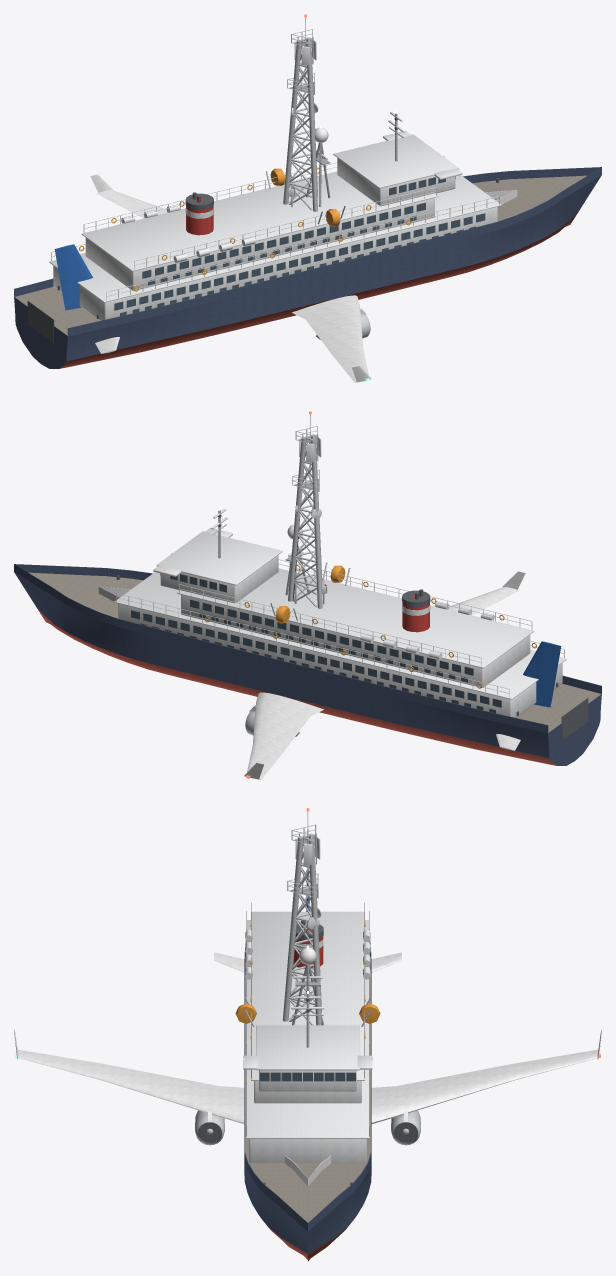
Rendered from jamsim_assets.glb.
3 renders of one model, top to bottom at view 1: azimuth 30°, elevation 25°; view 2: azimuth 150°, elevation 25°; view 3: azimuth 270°, elevation 25°, orthographic. The views are drawn at different scales.
Parts seen in each view (by area): view 1: Ship_Ferry_White_Paint, Ship_Ferry_Hull_Navy, Ship_Ferry_Glass, Aircraft_AC_White, Ship_Ferry_Deck, Jam_Tower_Galvanized, Ship_Ferry_Hull_Red, Ship_Ferry_Steel, Aircraft_CG_Blue, Ship_Ferry_Dark_Metal, Ship_Ferry_Orange, Ship_Ferry_Red_Paint; view 2: Ship_Ferry_White_Paint, Ship_Ferry_Hull_Navy, Ship_Ferry_Glass, Aircraft_AC_White, Ship_Ferry_Deck, Jam_Tower_Galvanized, Ship_Ferry_Hull_Red, Ship_Ferry_Steel, Aircraft_CG_Blue, Ship_Ferry_Dark_Metal, Ship_Ferry_Orange, Ship_Ferry_Red_Paint; view 3: Ship_Ferry_White_Paint, Aircraft_AC_White, Ship_Ferry_Hull_Navy, Ship_Ferry_Deck, Jam_Tower_Galvanized, Ship_Ferry_Steel, Ship_Ferry_Glass, Aircraft_Dark_Metal, Aircraft_AC_Gray, Ship_Ferry_Orange.
Boxes of the visible parts, x1,y1,x2,y2 form: Ship_Ferry_White_Paint: [49, 112, 501, 320]; Ship_Ferry_Hull_Navy: [14, 167, 601, 368]; Ship_Ferry_Glass: [114, 176, 485, 316]; Aircraft_AC_White: [90, 174, 371, 382]; Ship_Ferry_Deck: [15, 175, 586, 335]; Jam_Tower_Galvanized: [283, 29, 317, 211]; Ship_Ferry_Hull_Red: [49, 212, 578, 368]; Ship_Ferry_Steel: [51, 113, 499, 300]; Aircraft_CG_Blue: [54, 244, 92, 310]; Ship_Ferry_Dark_Metal: [27, 118, 499, 343]; Ship_Ferry_Orange: [79, 168, 411, 291]; Ship_Ferry_Red_Paint: [186, 198, 213, 235]; Ship_Ferry_White_Paint: [114, 509, 566, 717]; Ship_Ferry_Hull_Navy: [14, 564, 601, 765]; Ship_Ferry_Glass: [131, 573, 501, 713]; Aircraft_AC_White: [244, 571, 525, 779]; Ship_Ferry_Deck: [29, 572, 600, 732]; Jam_Tower_Galvanized: [288, 426, 322, 608]; Ship_Ferry_Hull_Red: [38, 609, 555, 765]; Ship_Ferry_Steel: [116, 510, 564, 697]; Aircraft_CG_Blue: [523, 641, 561, 707]; Ship_Ferry_Dark_Metal: [116, 515, 588, 740]; Ship_Ferry_Orange: [204, 565, 536, 688]; Ship_Ferry_Red_Paint: [402, 595, 429, 632]; Ship_Ferry_White_Paint: [243, 911, 372, 1162]; Aircraft_AC_White: [14, 952, 601, 1123]; Ship_Ferry_Hull_Navy: [244, 940, 371, 1253]; Ship_Ferry_Deck: [245, 953, 370, 1222]; Jam_Tower_Galvanized: [282, 824, 321, 1025]; Ship_Ferry_Steel: [244, 902, 371, 1136]; Ship_Ferry_Glass: [260, 1072, 355, 1081]; Aircraft_Dark_Metal: [198, 1122, 417, 1144]; Aircraft_AC_Gray: [195, 1110, 420, 1145]; Ship_Ferry_Orange: [235, 921, 380, 1083].
Size of the model in its own units: 74.24 by 37.13 by 59.98.
Materials: 26 (22 with a texture image).
